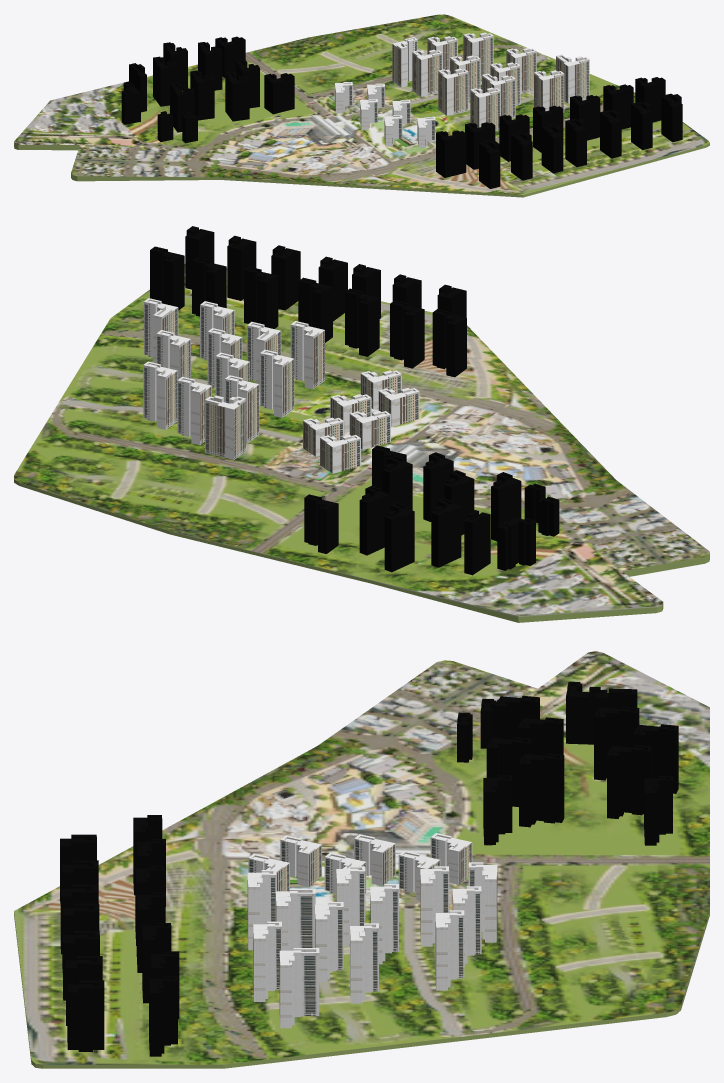
File: ICJ00103_C.glb
3 views of the same model, one above another, from view 1: azimuth 30°, elevation 25°; view 2: azimuth 150°, elevation 25°; view 3: azimuth 270°, elevation 25° (orthographic). The views are drawn at different scales.
Parts seen in each view (by area): view 1: MainBuilding; view 2: MainBuilding; view 3: MainBuilding.
Boxes of the visible parts, left/top/right/bottom form: MainBuilding: left=14, top=14, right=709, bottom=197; MainBuilding: left=14, top=226, right=709, bottom=622; MainBuilding: left=14, top=651, right=709, bottom=1068.
Bounding box in the file's own units: 10637 × 878 × 7567.
Materials: 1 (1 with a texture image).
